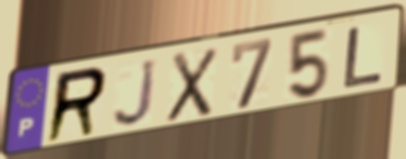5: (285, 24, 331, 101)
7: (229, 34, 277, 113)
J: (111, 56, 159, 130)
L: (340, 24, 386, 91)
R: (42, 64, 111, 148)
X: (164, 44, 221, 126)
